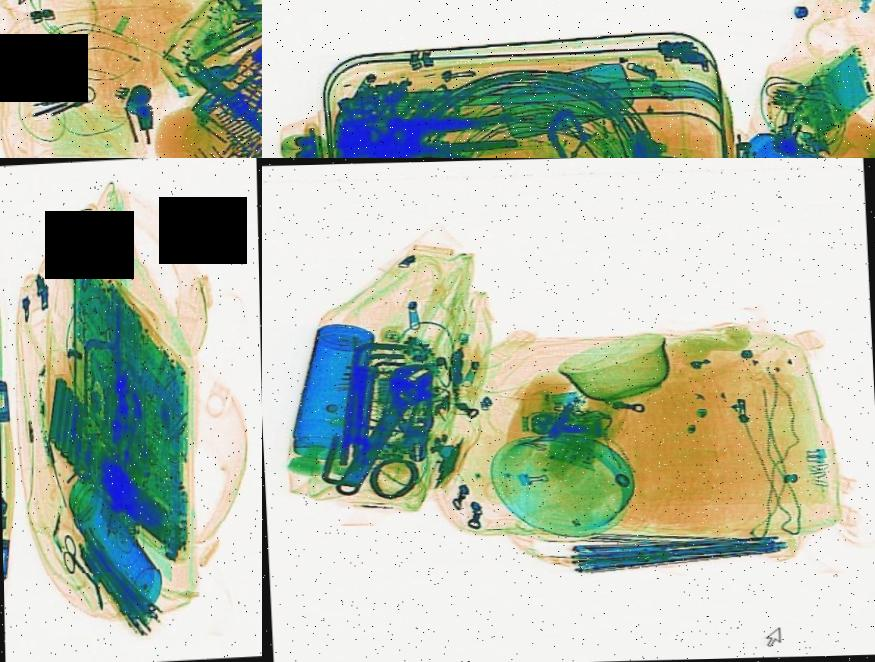Scissors: (58, 526, 106, 599)
Wrench: (314, 354, 456, 504), (181, 31, 262, 158)
